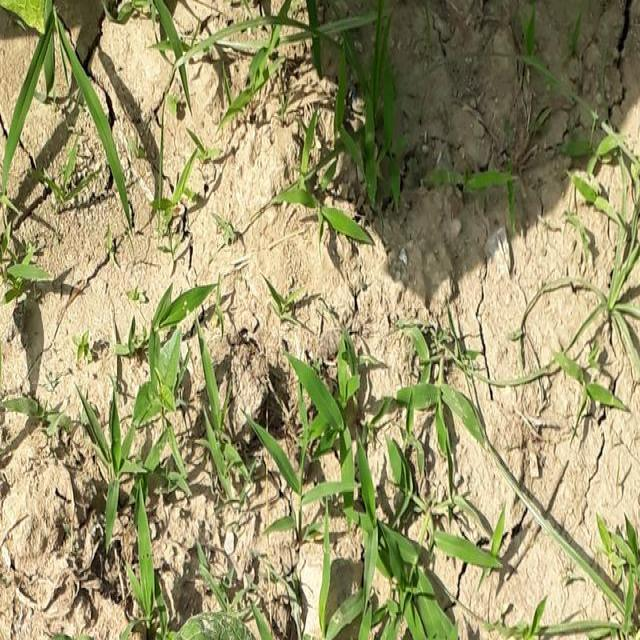weed: (263, 313, 503, 640), (72, 277, 216, 640), (217, 0, 429, 241)
